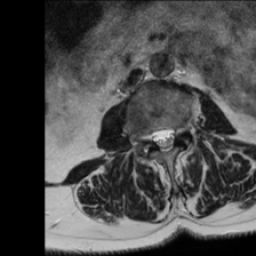CCS_normal: (160, 118, 167, 160)
LFS_normal: (175, 117, 184, 142)
LLS_normal: (167, 120, 175, 154)
RFS_normal: (144, 122, 152, 151)
RLS_normal: (152, 120, 160, 153)
